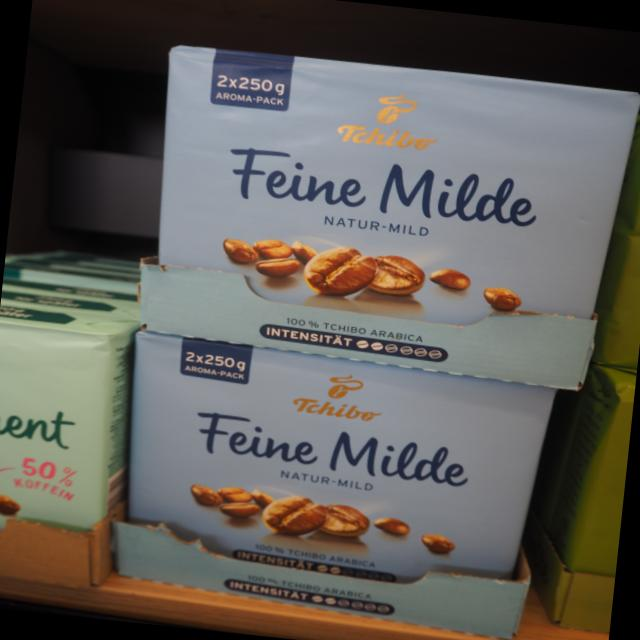FM Gemahlen: (142, 42, 640, 394), (124, 332, 562, 630)
